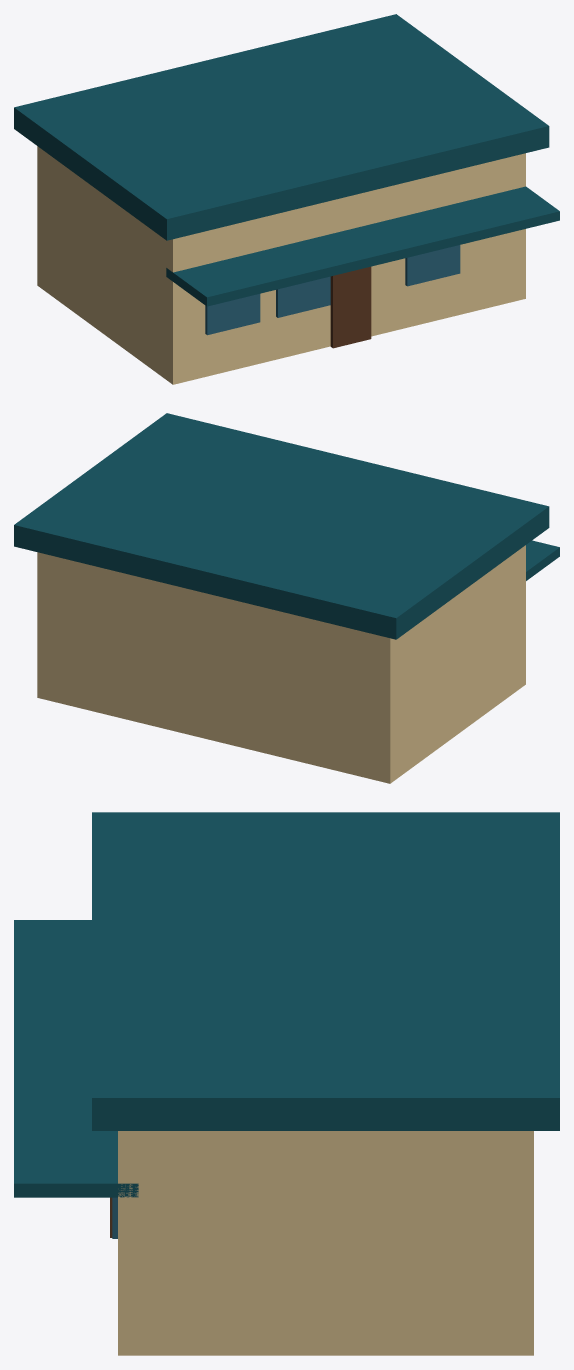
Rendered from paddock_house.glb.
3 renders of one model, top to bottom at view 1: azimuth 30°, elevation 25°; view 2: azimuth 150°, elevation 25°; view 3: azimuth 270°, elevation 25°, orthographic. The views are drawn at different scales.
Parts seen in each view (by area): view 1: Roof, Walls, FrontAwning, Door, Window, Window.002, Window.001; view 2: Walls, Roof, FrontAwning; view 3: Roof, Walls, FrontAwning.
Part boxes in pixels (bbox=[...]): Roof: bbox=[14, 14, 549, 240]; Walls: bbox=[37, 146, 525, 384]; FrontAwning: bbox=[166, 186, 559, 306]; Door: bbox=[330, 266, 371, 348]; Window: bbox=[205, 294, 260, 335]; Window.002: bbox=[405, 245, 460, 286]; Window.001: bbox=[276, 276, 330, 317]; Walls: bbox=[37, 545, 525, 783]; Roof: bbox=[14, 413, 549, 639]; FrontAwning: bbox=[526, 540, 559, 580]; Roof: bbox=[92, 812, 559, 1130]; Walls: bbox=[118, 1131, 533, 1355]; FrontAwning: bbox=[14, 920, 138, 1197].
Bounding box in the file's own units: 13 × 5.7 × 10.5.
